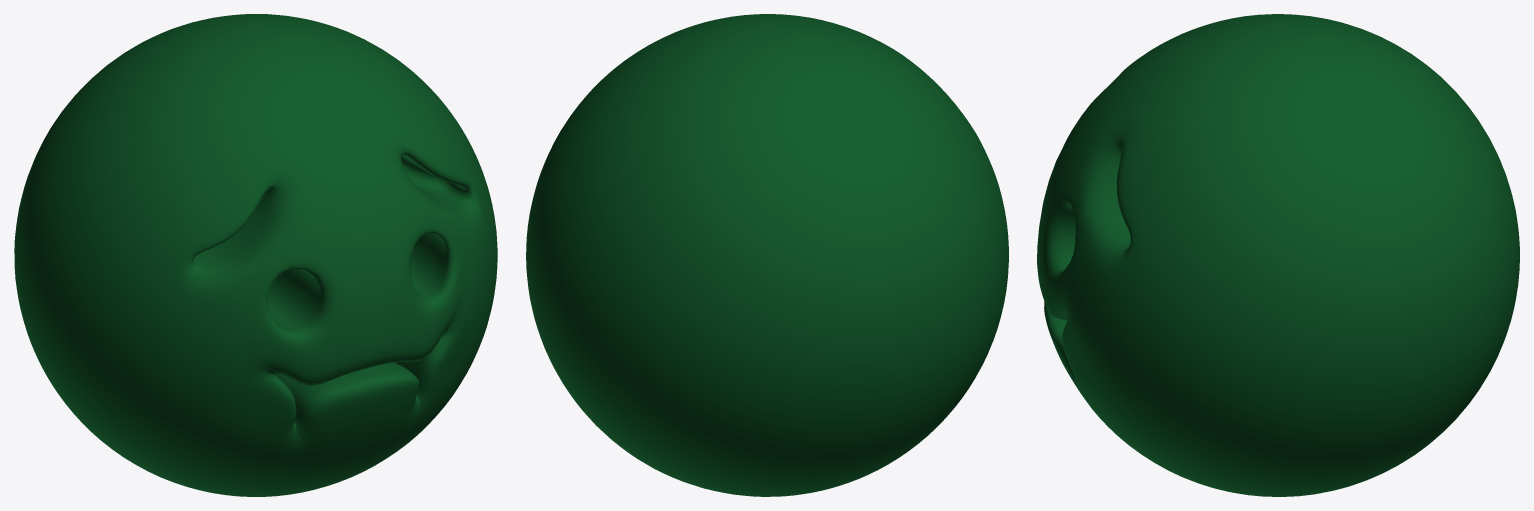
Rendered from sick FBX.glb.
3 renders of one model, left to right at view 1: azimuth 30°, elevation 25°; view 2: azimuth 150°, elevation 25°; view 3: azimuth 270°, elevation 25°, orthographic.
Visible parts, largest first — view 1: ZBrush_defualt_group; view 2: ZBrush_defualt_group; view 3: ZBrush_defualt_group.
Boxes of the visible parts, x1=… form: ZBrush_defualt_group: x1=14, y1=14, x2=497, y2=496; ZBrush_defualt_group: x1=526, y1=14, x2=1008, y2=496; ZBrush_defualt_group: x1=1037, y1=14, x2=1519, y2=496.
Size of the model in its own units: 0.5665 by 0.5666 by 0.5664.
